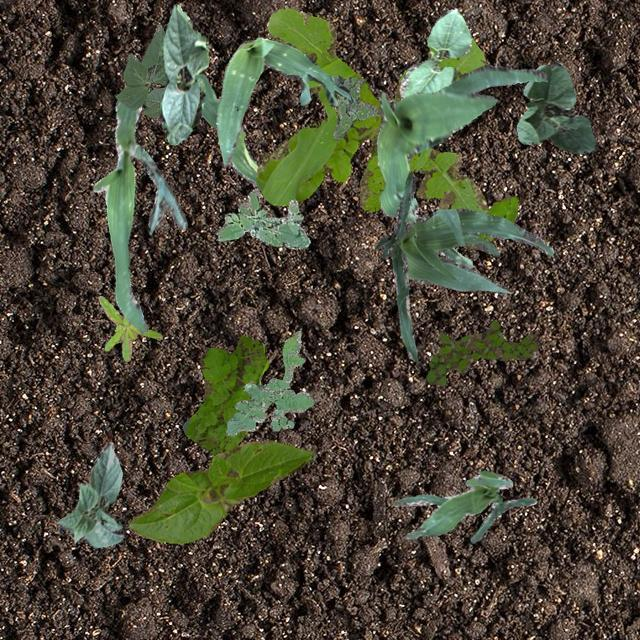crop: (375, 64, 545, 268), (373, 172, 552, 362), (92, 99, 186, 334), (128, 438, 314, 542), (215, 36, 348, 165), (390, 468, 536, 542), (192, 72, 258, 186), (54, 441, 122, 546), (158, 2, 208, 144), (516, 61, 594, 152), (398, 8, 469, 98), (114, 22, 166, 116)
weed: (255, 6, 488, 212), (182, 334, 268, 454), (224, 330, 314, 434), (424, 318, 540, 386), (215, 188, 308, 248), (98, 294, 162, 360), (332, 74, 378, 138), (474, 194, 518, 240)
